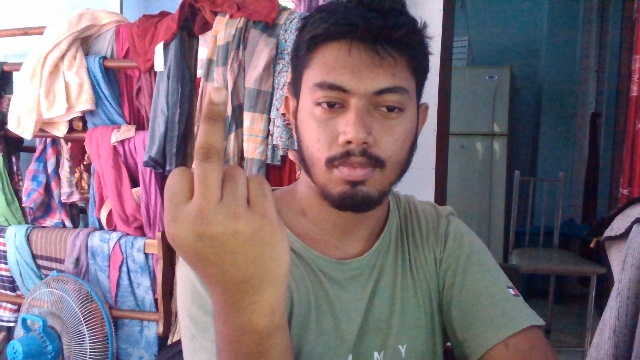fucku: (158, 84, 296, 307)
